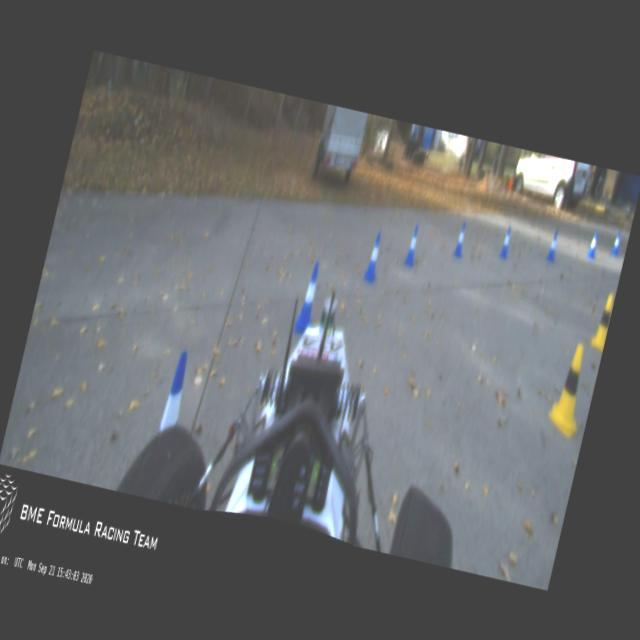blue_cone: (158, 348, 192, 436), (292, 260, 326, 332), (362, 232, 385, 280), (402, 224, 422, 264), (452, 221, 468, 256), (498, 224, 514, 259), (545, 230, 560, 262), (586, 231, 600, 257), (610, 230, 623, 256)
yellow_cone: (546, 342, 592, 432), (590, 290, 614, 350)
